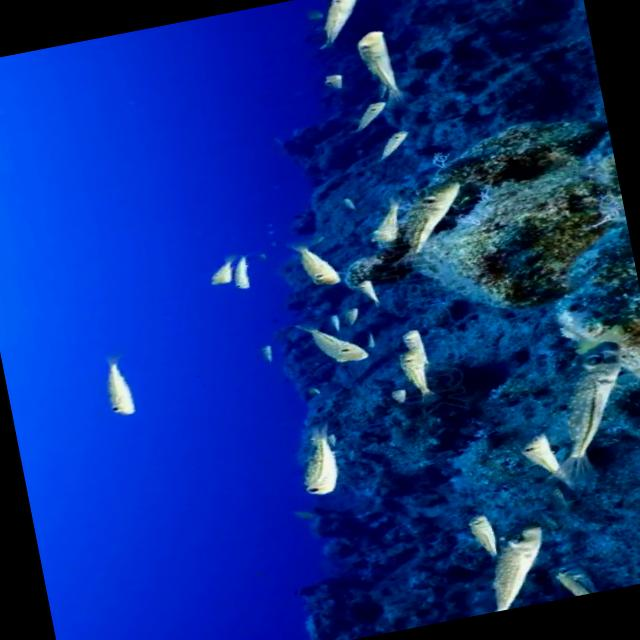Balon Baligi: (532, 337, 640, 470), (470, 518, 564, 613), (388, 178, 472, 260), (384, 326, 452, 410), (298, 315, 374, 372), (86, 352, 144, 424), (292, 432, 351, 501), (350, 27, 408, 97), (303, 0, 364, 54), (450, 507, 504, 563), (290, 236, 342, 292), (368, 124, 418, 168), (346, 95, 393, 134), (315, 69, 349, 92)
